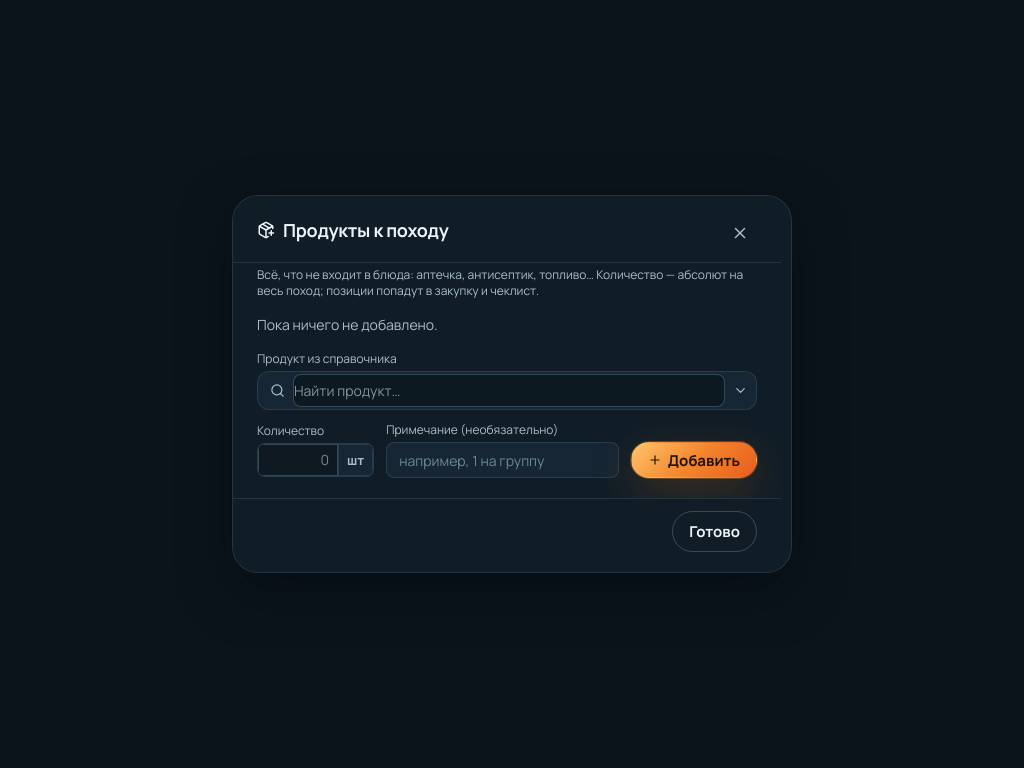
Test case: ManualItemsModal (Fix-6, п.13) — продукта нет в списке › не-админ: подсказка вместо кнопки создания
In the dropdown named "Продукт ручной позиции": (509, 390) x1=293 y1=374 x2=725 y2=407, type "Динамометр"
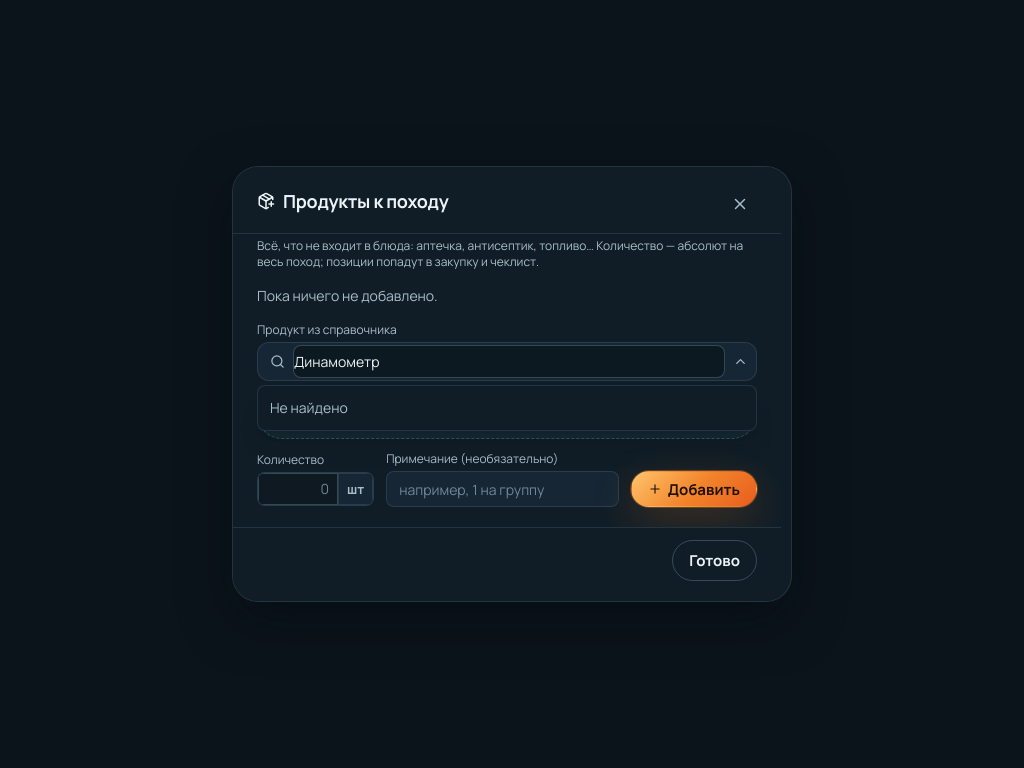
Result: the text "Новые продукты добавляет администратор" is shown at x1=270 y1=397 x2=718 y2=430
